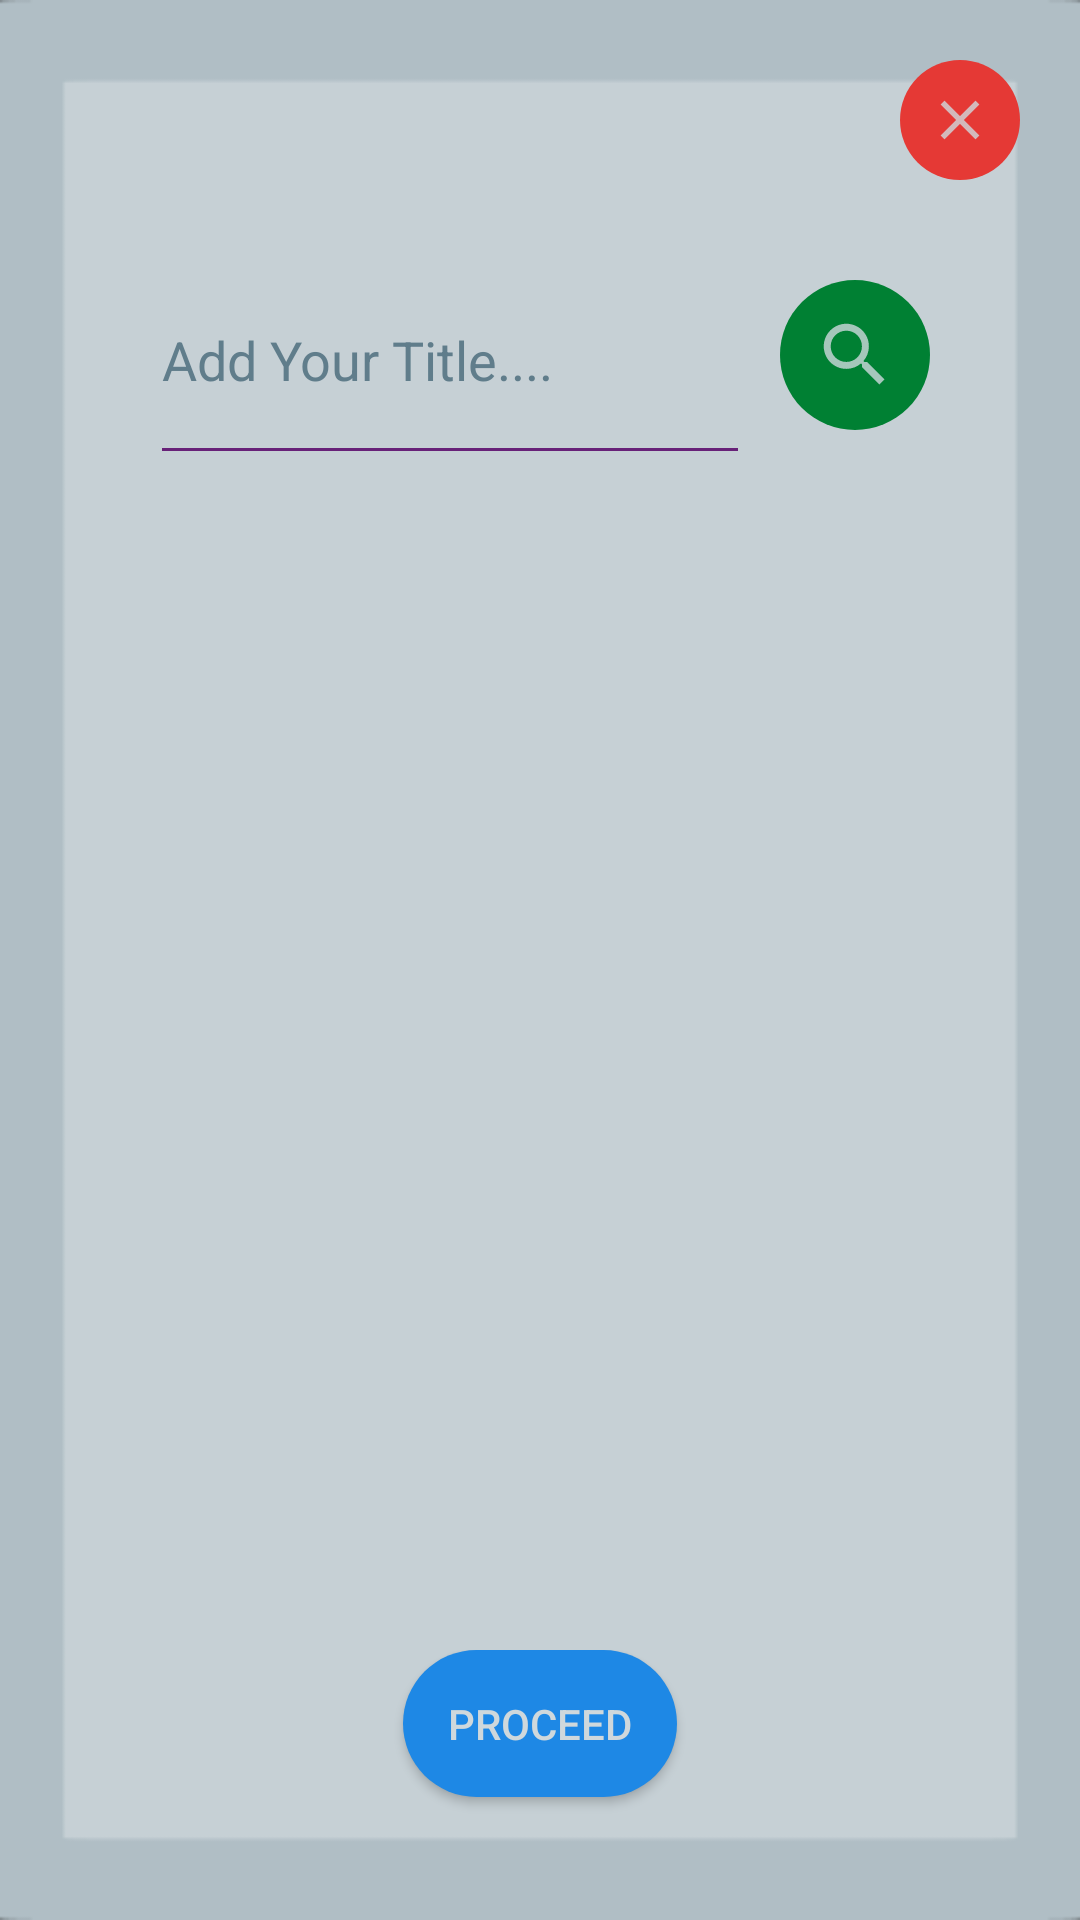

Icons on this 1080px×1920px Android screen, each with the point to tap as [x,y]:
Close: [960,120]
Search: [855,355]
